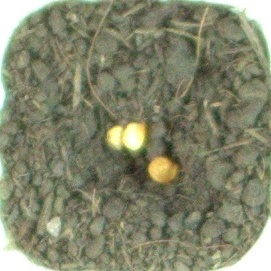chilli seed: (147, 156, 181, 185), (121, 121, 147, 152), (105, 124, 128, 151)
